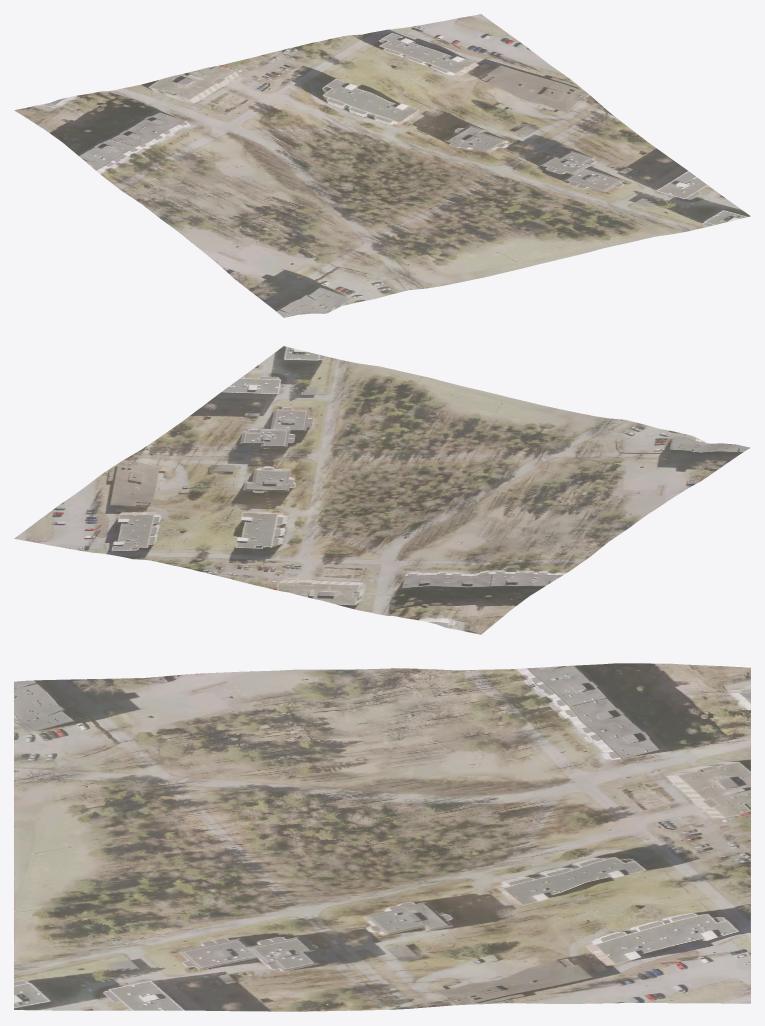
The model's file is CM_Terrain_24492097_6814879.fbx.
The picture shows the model from 3 angles, top to bottom: view 1: azimuth 30°, elevation 25°; view 2: azimuth 150°, elevation 25°; view 3: azimuth 270°, elevation 25°; orthographic projection. The views are drawn at different scales.
Parts seen in each view (by area): view 1: CM_Terrain_24492097_6814879_LOD0; view 2: CM_Terrain_24492097_6814879_LOD0; view 3: CM_Terrain_24492097_6814879_LOD0.
Boxes of the visible parts, x1=… form: CM_Terrain_24492097_6814879_LOD0: x1=14, y1=14, x2=750, y2=317; CM_Terrain_24492097_6814879_LOD0: x1=14, y1=346, x2=750, y2=634; CM_Terrain_24492097_6814879_LOD0: x1=14, y1=663, x2=750, y2=1011.
Size of what is drawn, in the model's own units: 205 by 11.67 by 205.
